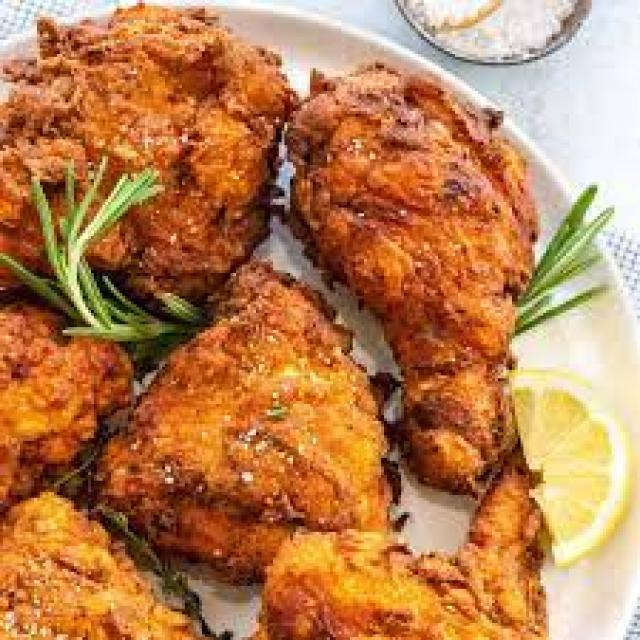Frango: (5, 14, 558, 640)
